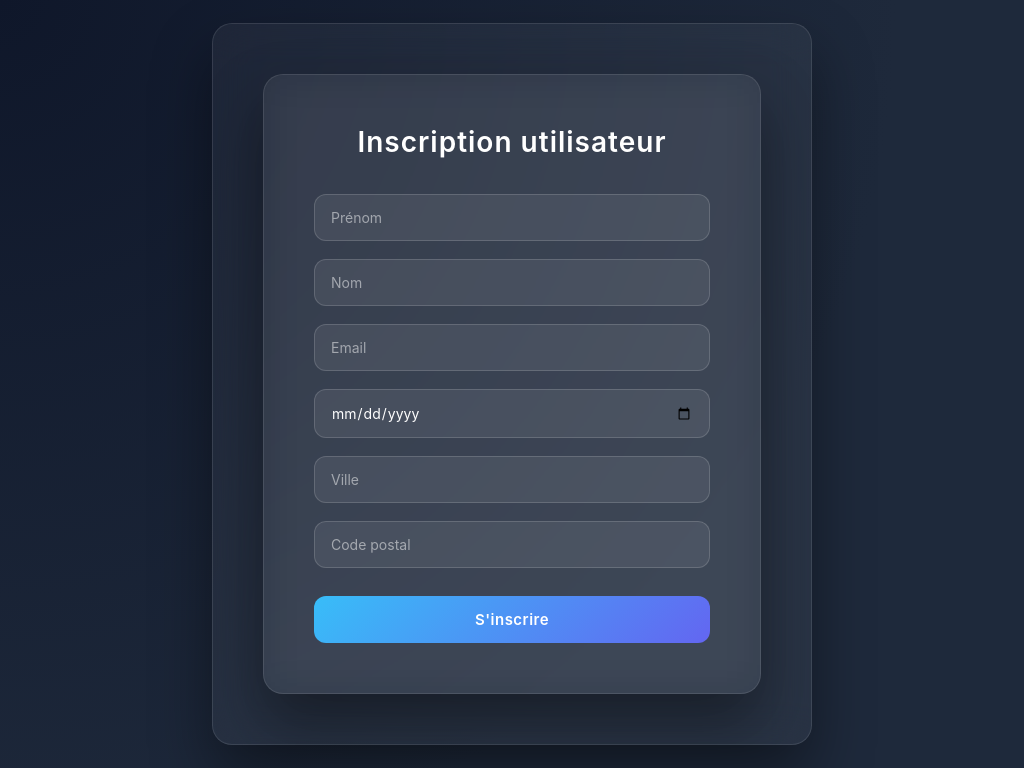
Scenario: RegisterForm › affiche erreur si ville vide
Step 1. Type "John" into the field with placeholder "Prénom" → [512, 218], box [314, 194, 710, 241]
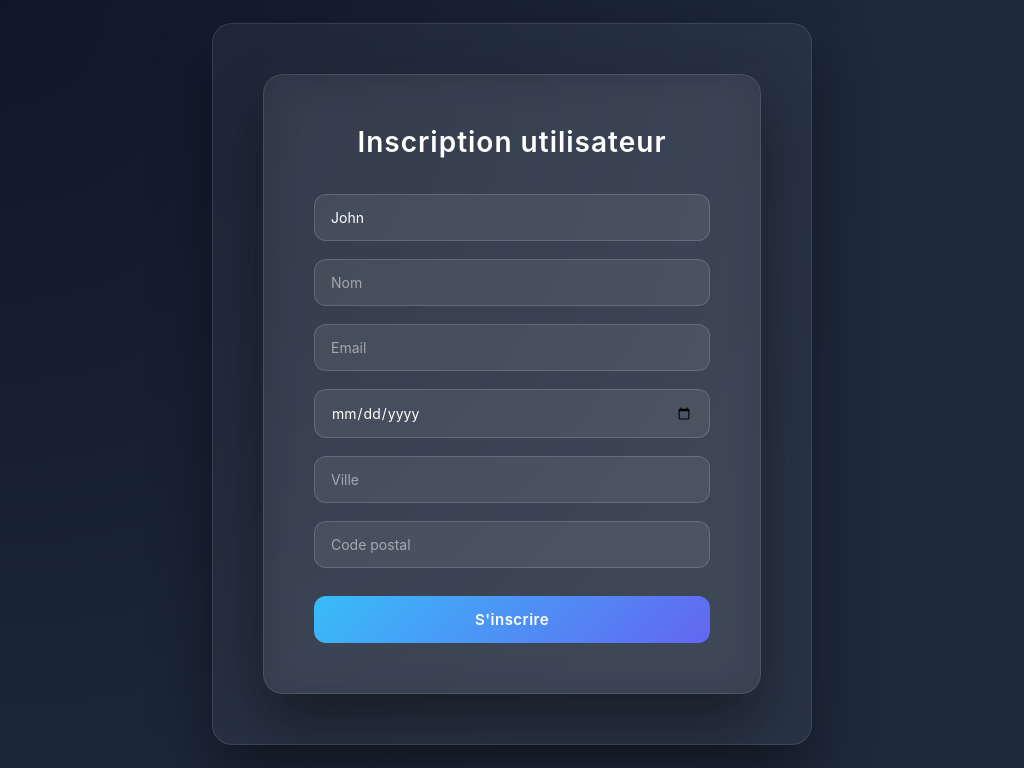
Step 2. Type "Doe" into the field with placeholder "Nom" → [512, 282], box [314, 259, 710, 306]
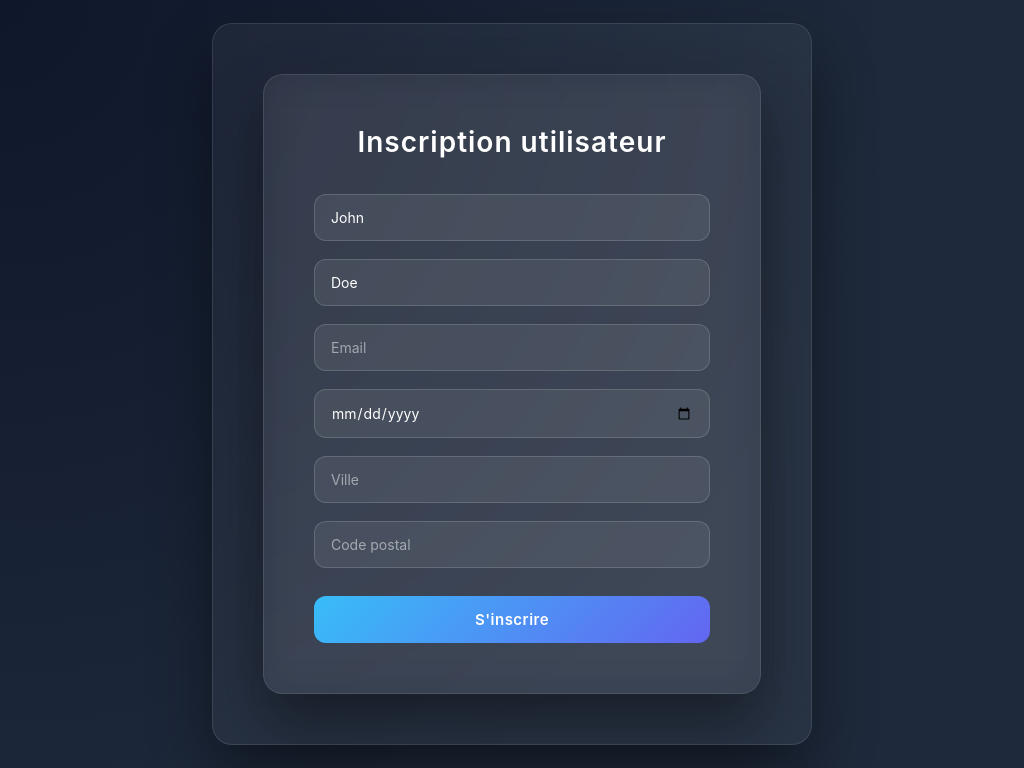
Step 3. Type "john@mail.com" into the field with placeholder "Email" → [512, 348], box [314, 324, 710, 371]
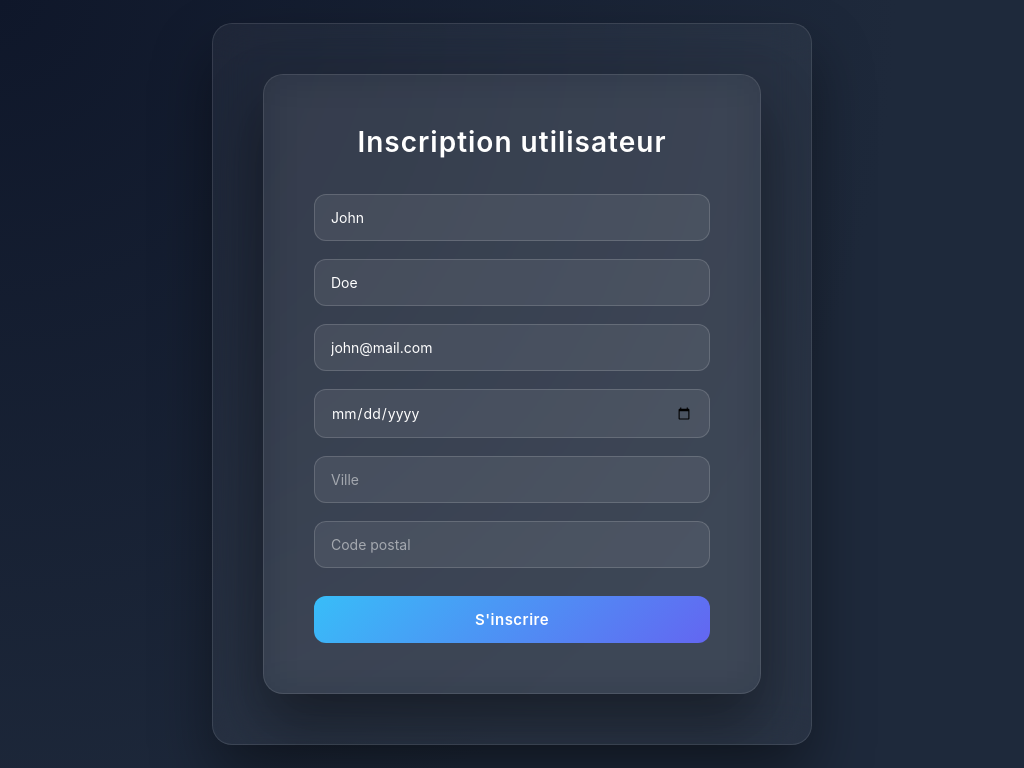
Step 4. Type "2000-01-01" into the date field with test id "birthDate" → [512, 414], box [314, 389, 710, 438]
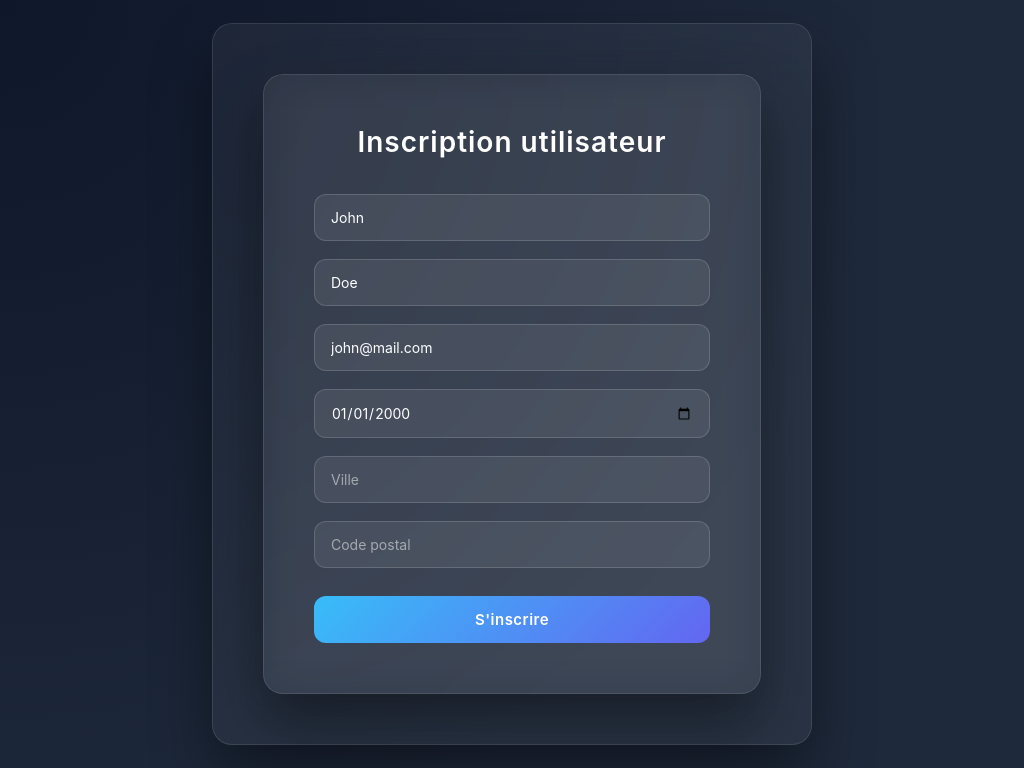
Step 5. Click the button → [512, 620], box [314, 596, 710, 643]
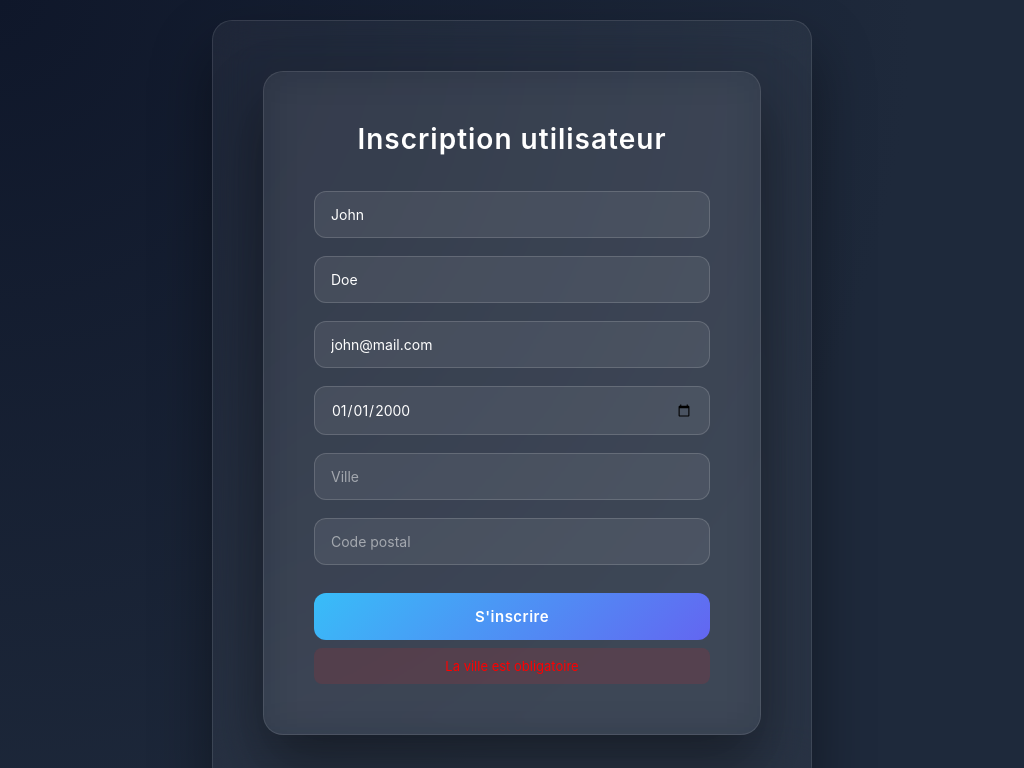
Now the text with test id "error" reads "La ville est obligatoire", box [445, 658, 579, 674]
